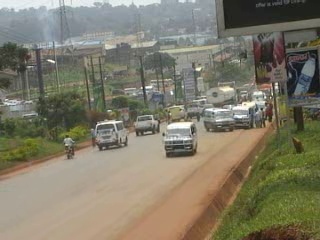Motorcycle: (60, 132, 78, 159)
